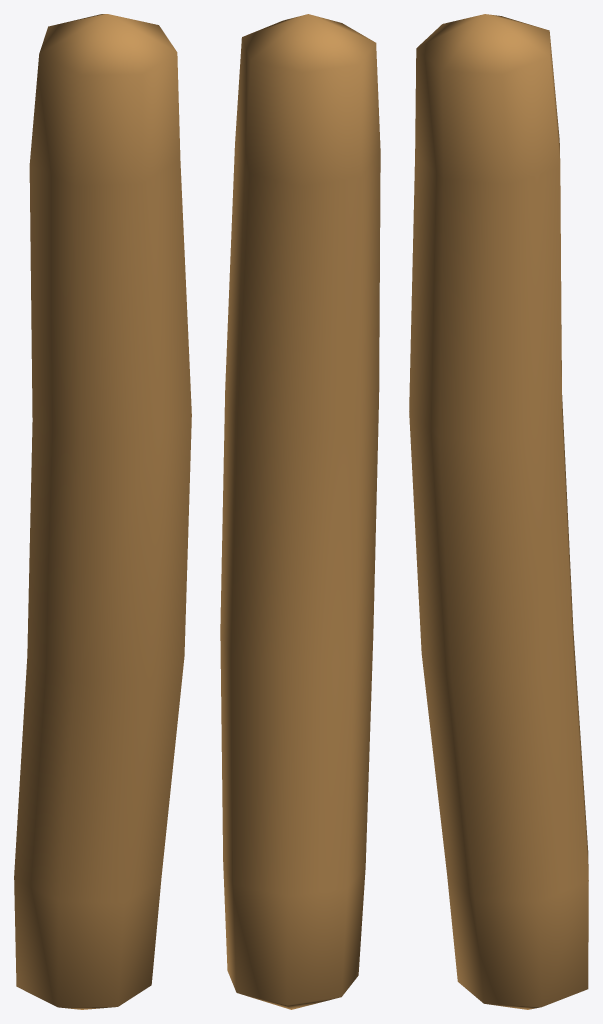
Rendered from tarsus2_T1_left_leg.obj.
The picture shows the model from 3 angles, left to right: view 1: azimuth 30°, elevation 25°; view 2: azimuth 150°, elevation 25°; view 3: azimuth 270°, elevation 25°; orthographic projection. The views are drawn at different scales.
Bounding box in the file's own units: 0.00272 × 0.0186 × 0.00303.
